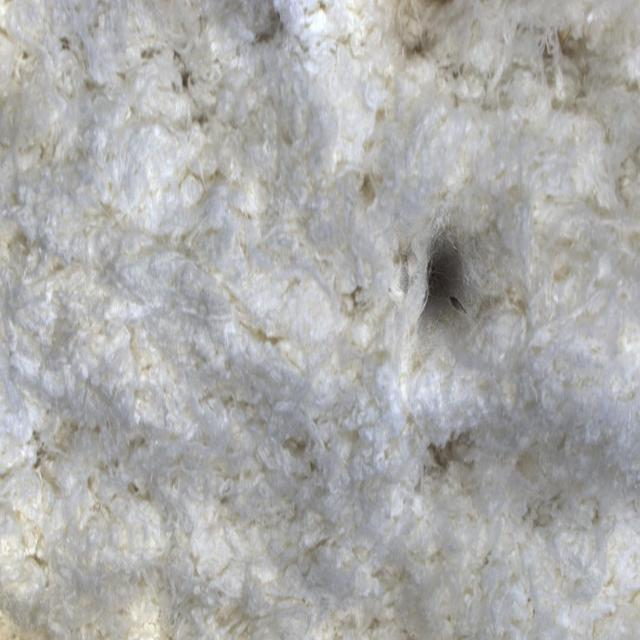dust: (371, 178, 531, 377)
